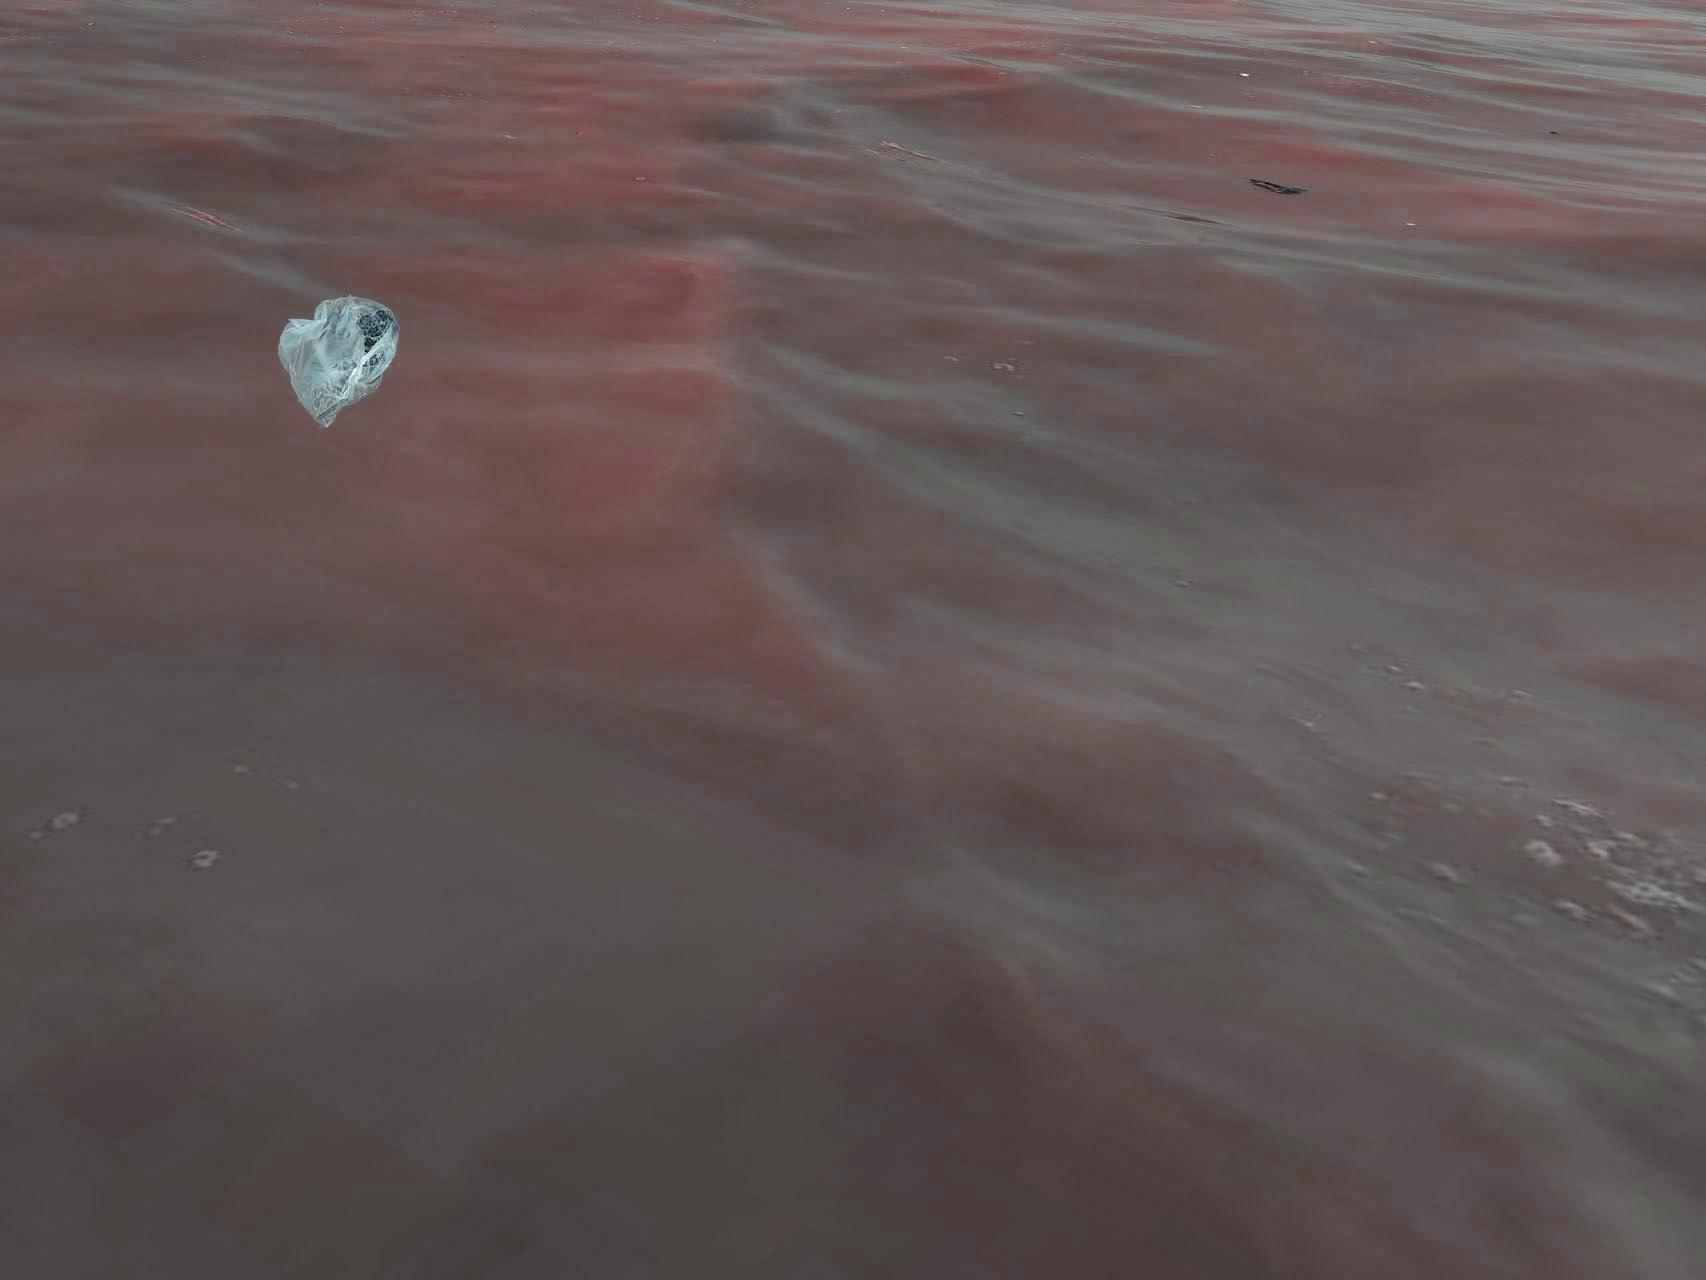Trash: (278, 293, 398, 426)
